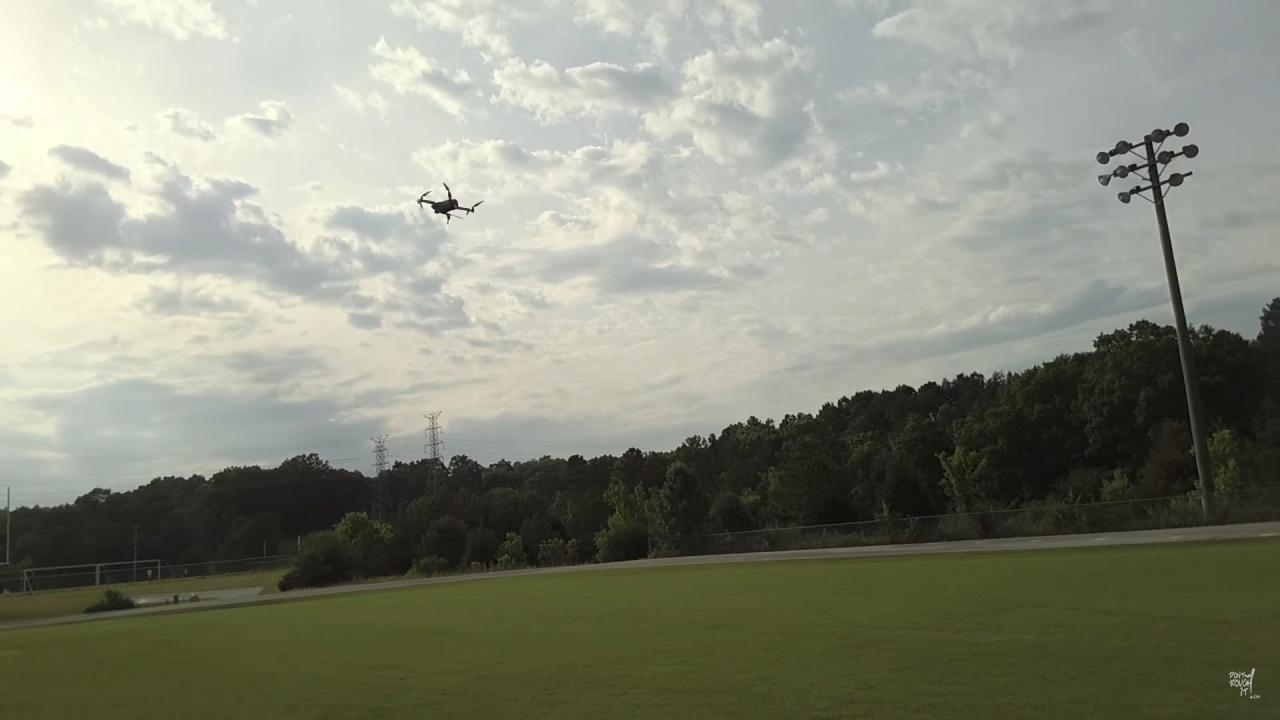Drone: (409, 168, 494, 232)
